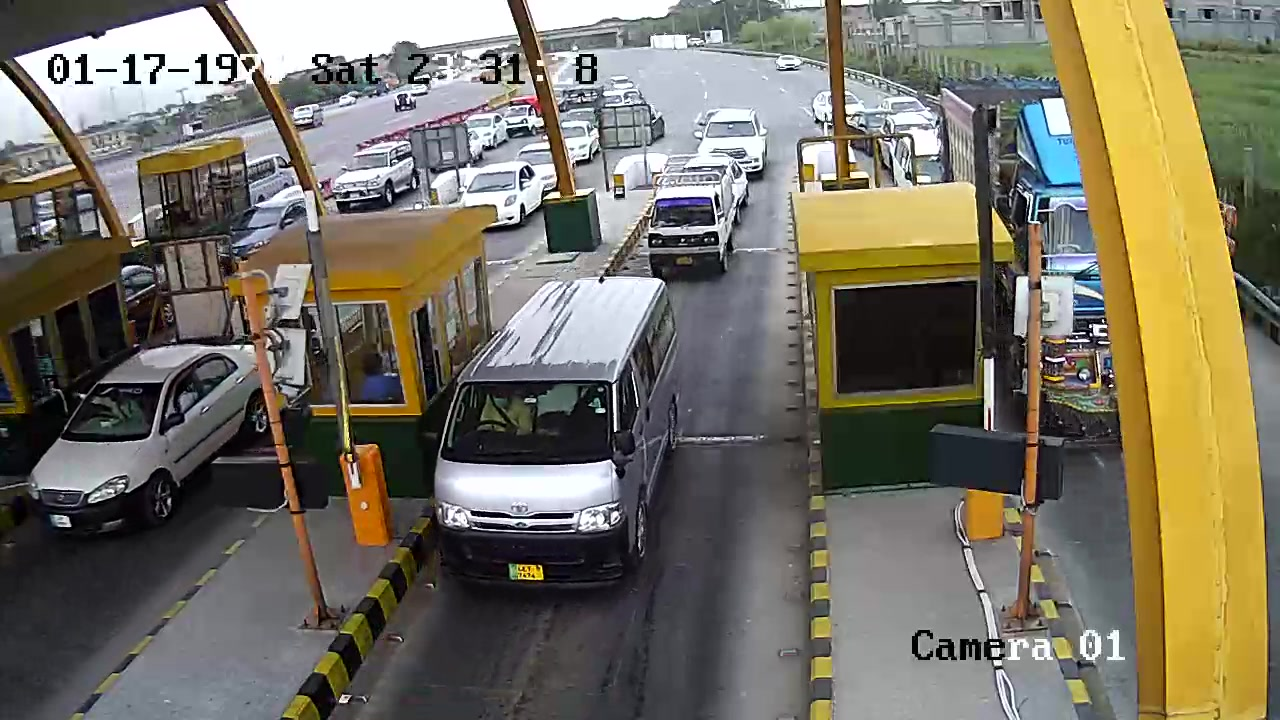F2: (431, 273, 688, 608)
